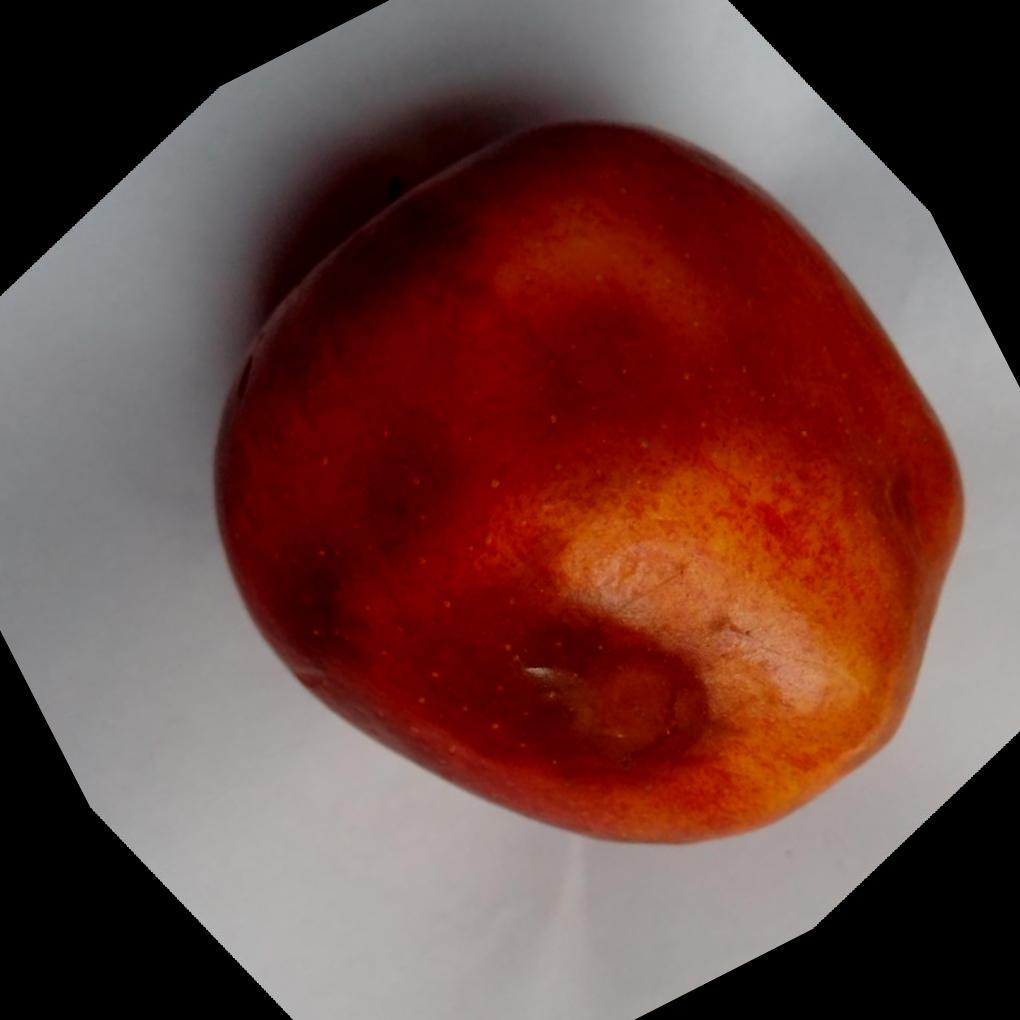FreshOrange: (206, 119, 963, 848)
